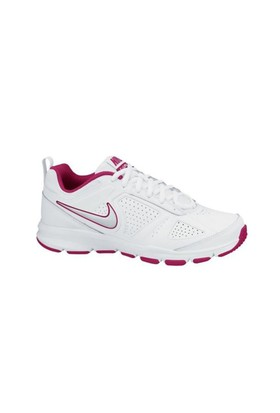nike: (57, 200, 119, 231)
